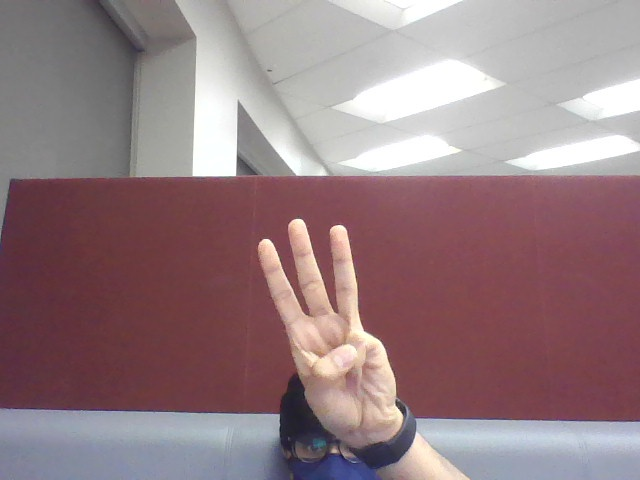three: (246, 209, 413, 430)
